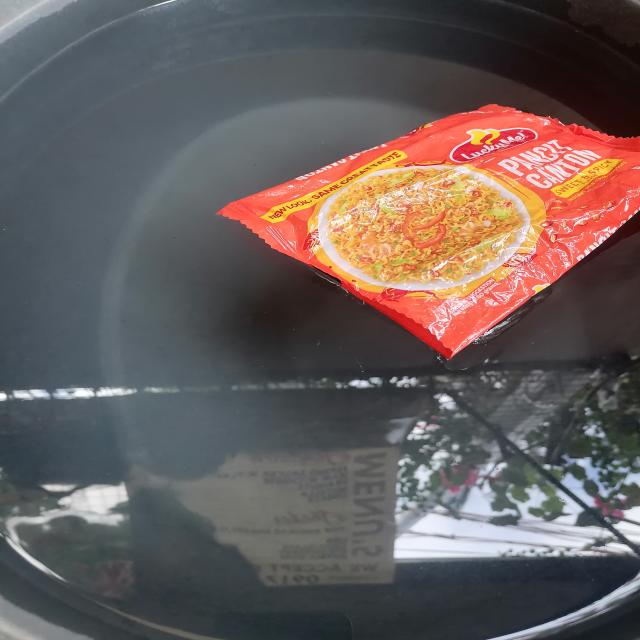Plastic Wrapper: (217, 105, 640, 358)
